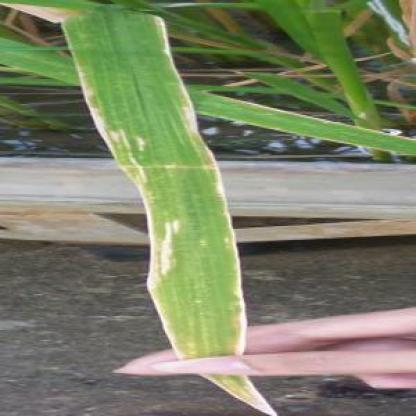Blight: (158, 222, 180, 281)
